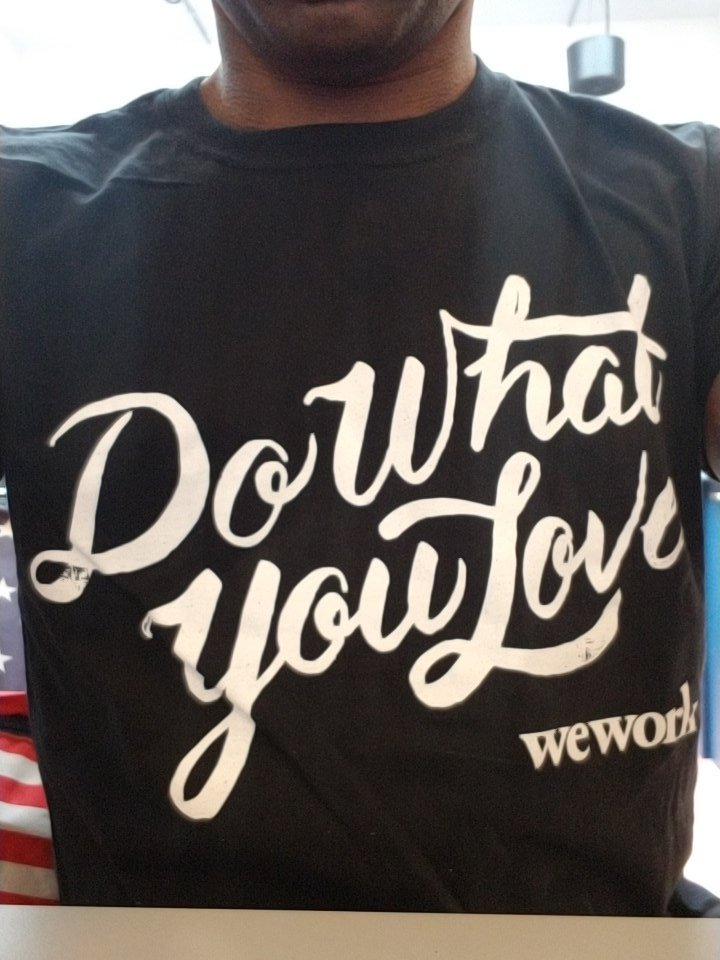wework: (515, 678, 700, 773)
